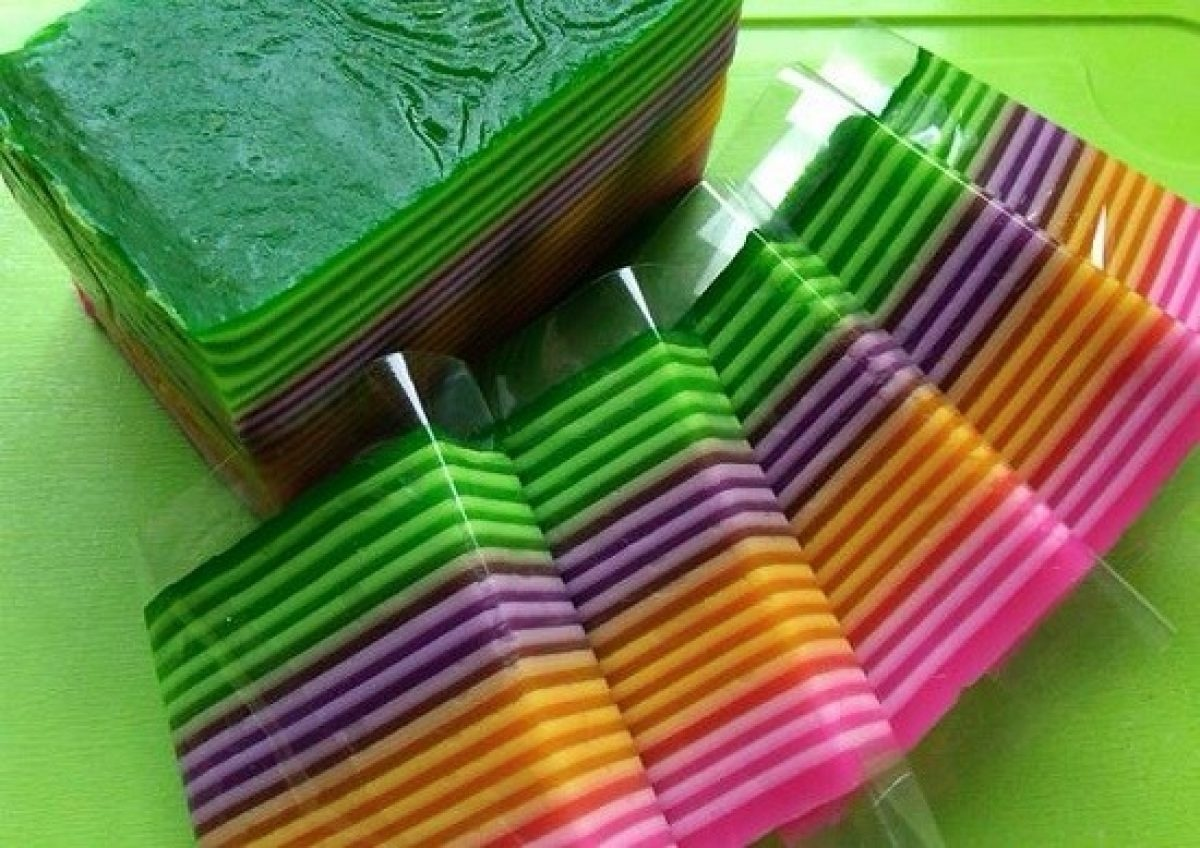kue_lapis_pelangi: (130, 429, 674, 845), (689, 218, 1111, 750), (506, 334, 900, 839)
